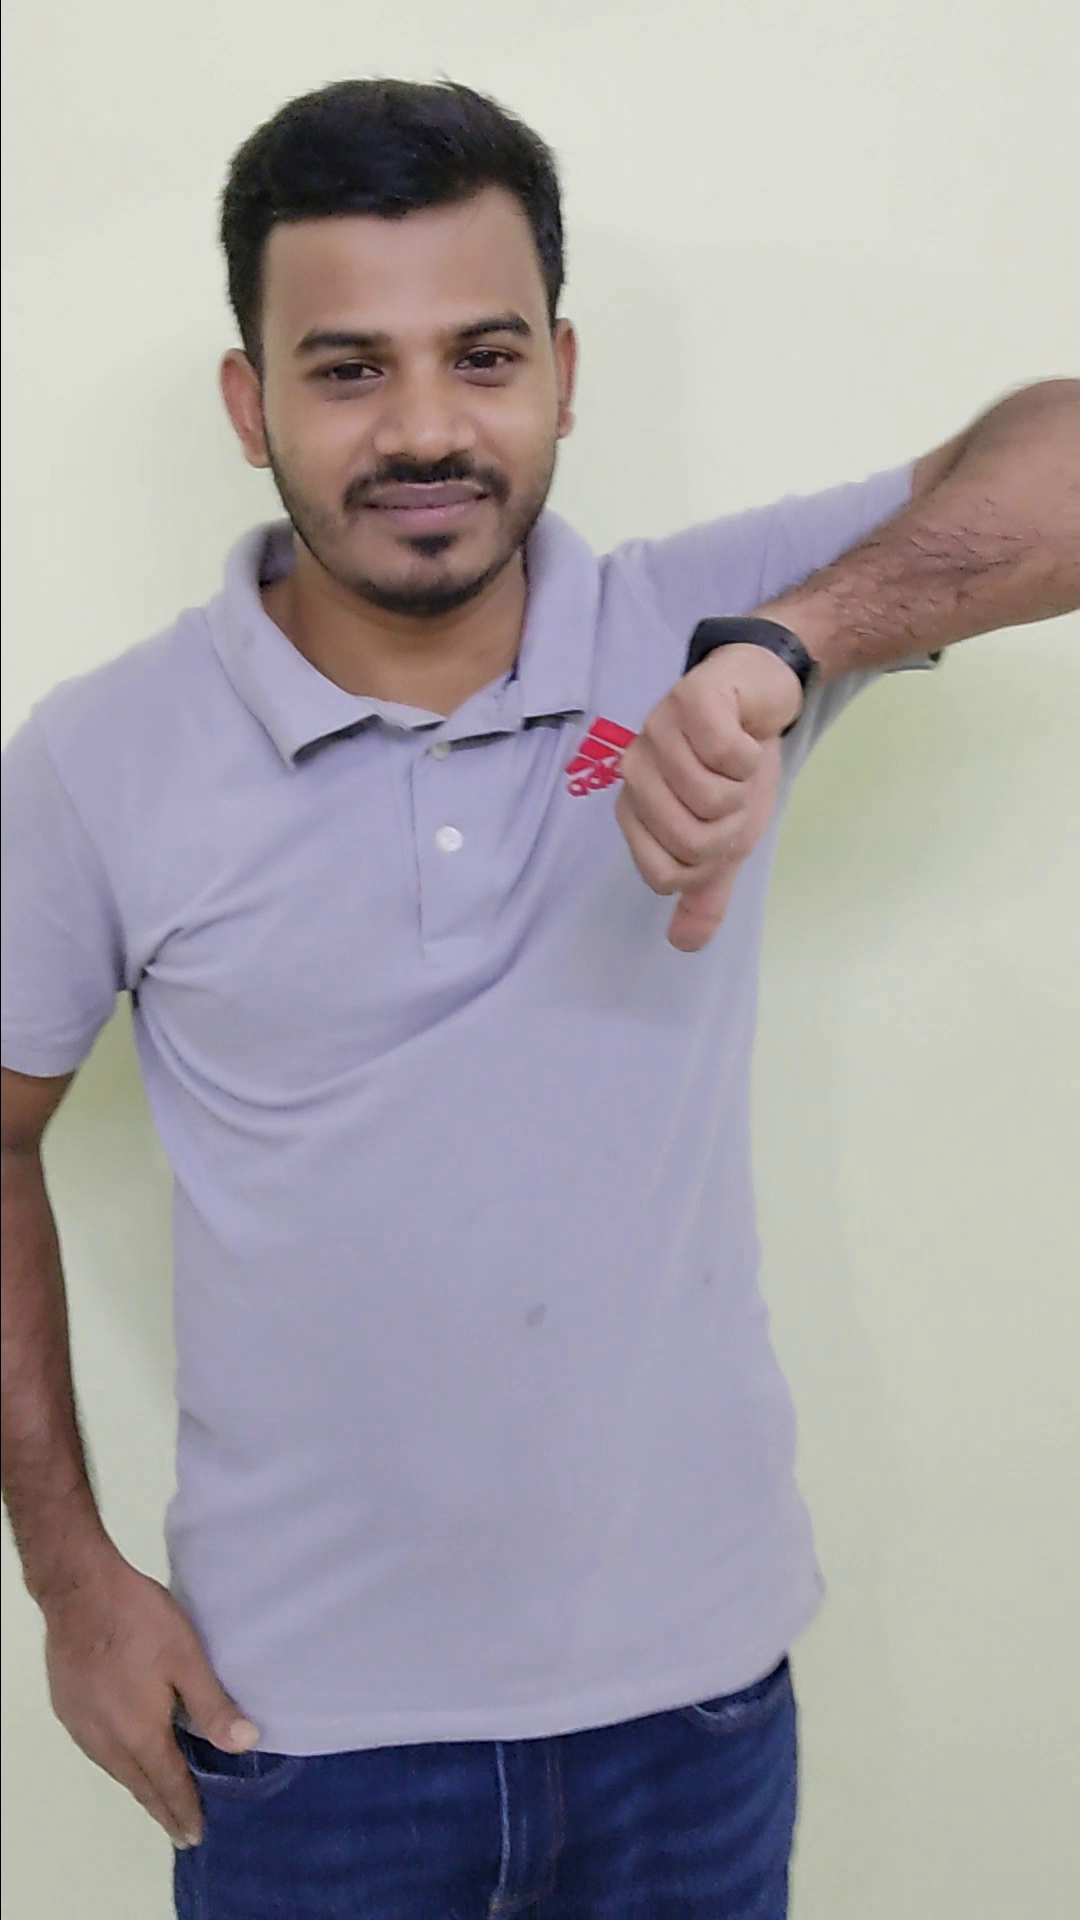Dislike: (597, 593, 825, 968)
None: (13, 1552, 274, 1865)
